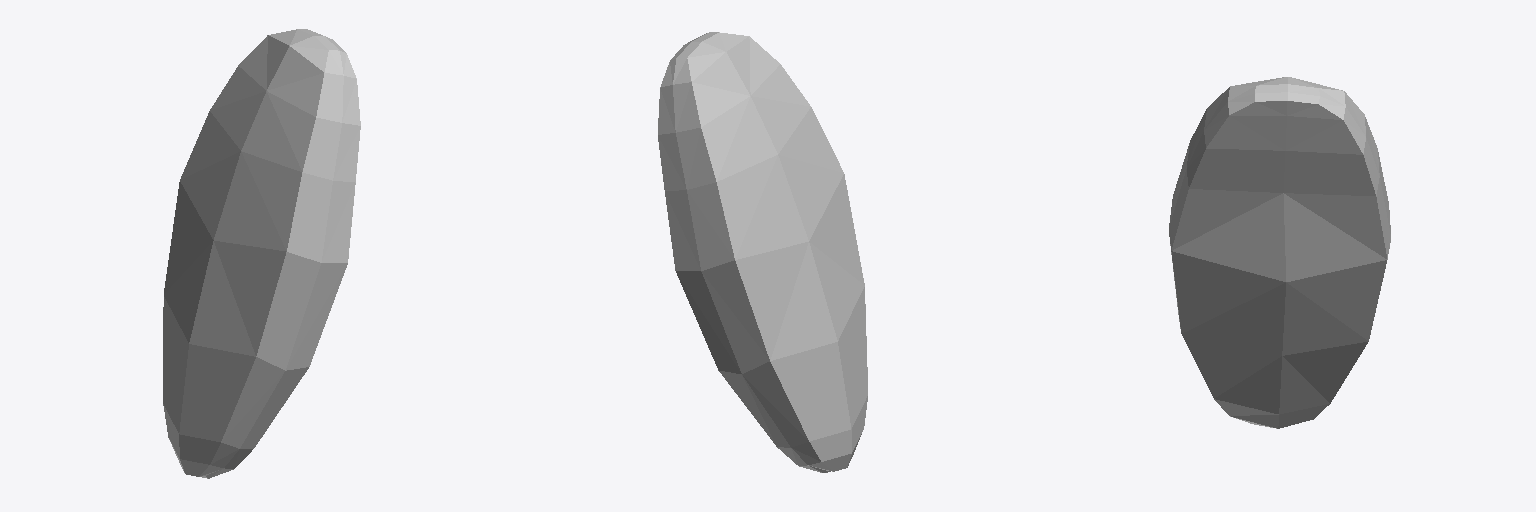
Rendered from aleta_iz.obj.
3 views of the same model, side by side, from view 1: azimuth 30°, elevation 25°; view 2: azimuth 150°, elevation 25°; view 3: azimuth 270°, elevation 25° (orthographic).
Parts seen in each view (by area): view 1: Cube.001; view 2: Cube.001; view 3: Cube.001.
Boxes of the visible parts, box(x1,y1,x2,y2) form: Cube.001: box(163, 29, 360, 478); Cube.001: box(658, 32, 867, 472); Cube.001: box(1169, 77, 1390, 428).
Bounding box in the file's own units: 0.2027 × 0.4884 × 0.2439.